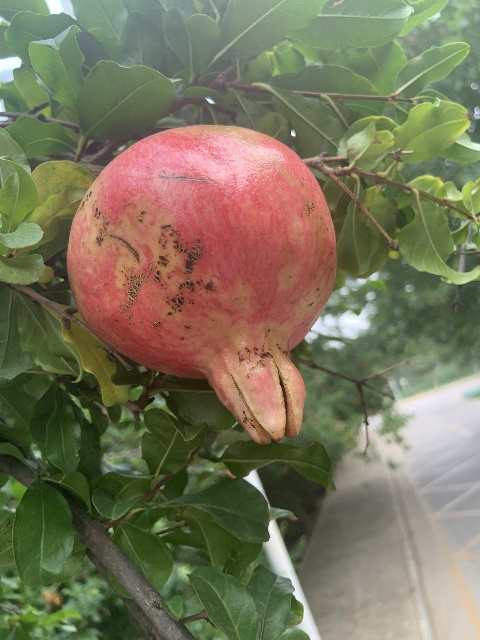ripe: (64, 125, 336, 443)
